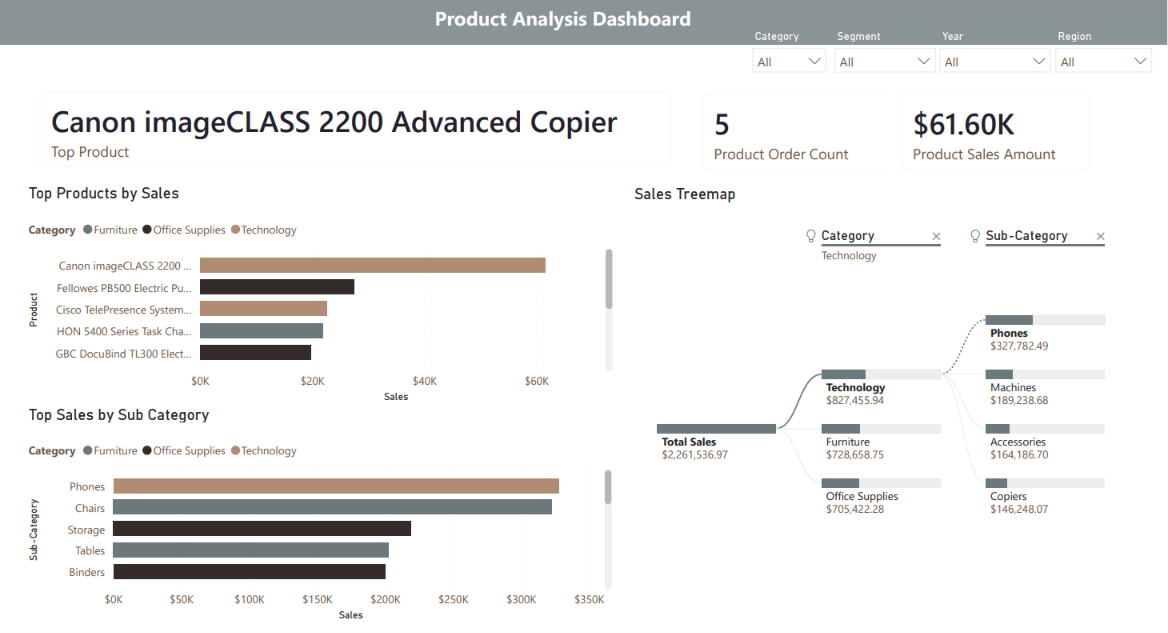

The page's visual inventory and layout, read from the dashboard file:
{"tool":"powerbi","page":{"name":"Product Analysis","canvas":[1280,720],"ordinal":1},"visuals":[{"type":"shape","box":[0,0,1280.3,48.9],"z":0},{"type":"textbox","box":[470.6,0,323.8,66.2],"z":1000},{"type":"barChart","title":"Top Products by Sales","fields":{"Category":["superstore sales.Product_Name"],"Y":["Sum(superstore sales.Sales)"],"Series":["superstore sales.Category"]},"box":[26.2,201.2,649.3,243.3],"z":2000},{"type":"barChart","title":"Top Sales by Sub Category","fields":{"Category":["superstore sales.Sub-Category"],"Y":["Sum(superstore sales.Sales)"],"Series":["superstore sales.Category"]},"box":[25.7,442.7,649.3,240.9],"z":3000},{"type":"decompositionTreeVisual","title":"Sales Treemap","fields":{"ExplainBy":["superstore sales.Category","superstore sales.Sub-Category"],"Analyze":["Sum(superstore sales.Sales)"]},"box":[689.7,201.8,560.1,481.8],"z":4000},{"type":"cardVisual","fields":{"Data":["superstore sales.Top Product"]},"box":[25.7,83.2,726.4,116.2],"z":5000},{"type":"slicer","fields":{"Values":["superstore sales.Order_Date.Variation.Date Hierarchy.Year"]},"box":[1019.3,27.3,141.4,69.3],"z":6000},{"type":"slicer","fields":{"Values":["superstore sales.Region"]},"box":[1145.7,27.3,126.4,69.3],"z":7000},{"type":"slicer","fields":{"Values":["superstore sales.Category"]},"box":[814.3,27.3,100.7,55.7],"z":8000},{"type":"slicer","fields":{"Values":["superstore sales.Segment"]},"box":[904.3,27.3,130.7,69.3],"z":9000},{"type":"cardVisual","fields":{"Data":["superstore sales.Top Product Order Count"]},"box":[752,85.6,240.9,116.2],"z":10000},{"type":"cardVisual","fields":{"Data":["superstore sales.Top Product Sales Amount"]},"box":[969.7,85.6,240.9,116.2],"z":11000}]}

Visuals, with their boxes on the page's 1280x720 design canvas (x1, y1, x2, y2). These are canvas units, not pixel positions in the 1168x633 screenshot, which may show the page scaled, cropped or inside an application window:
shape: crop(0, 0, 1280, 49)
textbox: crop(471, 0, 794, 66)
"Top Products by Sales" barChart: crop(26, 201, 676, 444)
"Top Sales by Sub Category" barChart: crop(26, 443, 675, 684)
"Sales Treemap" decompositionTreeVisual: crop(690, 202, 1250, 684)
cardVisual - superstore sales.Top Product: crop(26, 83, 752, 199)
slicer - superstore sales.Order_Date.Variation.Date Hierarchy.Year: crop(1019, 27, 1161, 97)
slicer - superstore sales.Region: crop(1146, 27, 1272, 97)
slicer - superstore sales.Category: crop(814, 27, 915, 83)
slicer - superstore sales.Segment: crop(904, 27, 1035, 97)
cardVisual - superstore sales.Top Product Order Count: crop(752, 86, 993, 202)
cardVisual - superstore sales.Top Product Sales Amount: crop(970, 86, 1211, 202)
